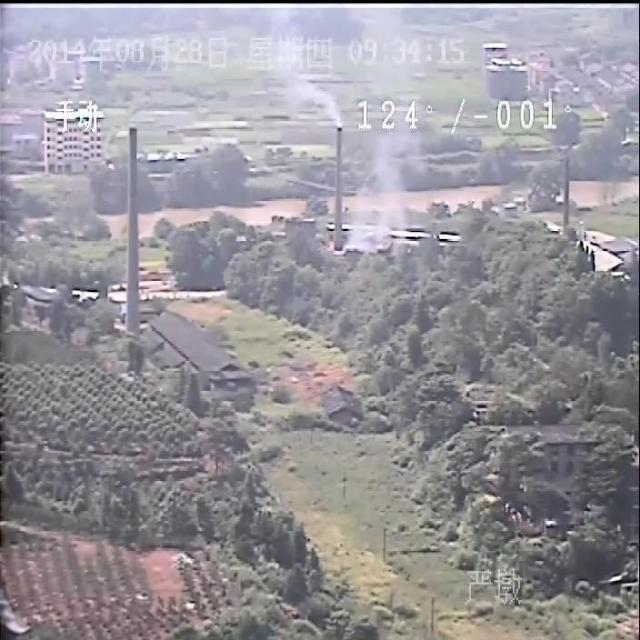smoke: (344, 10, 422, 252), (266, 10, 343, 128)
